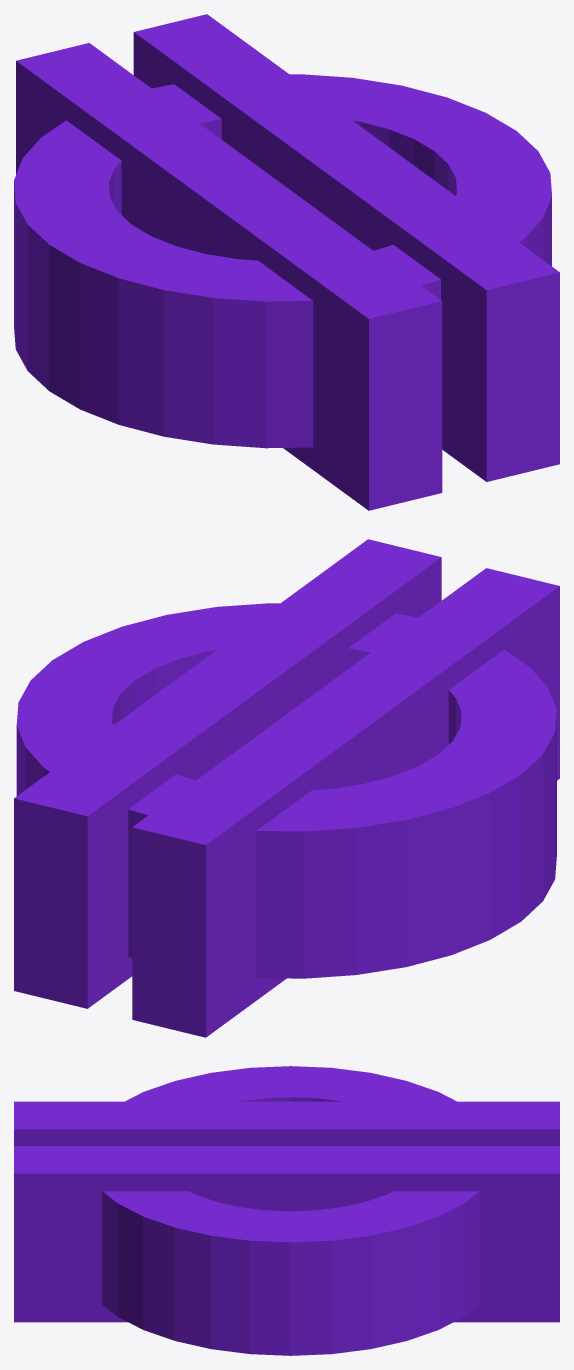
File: heloma_fisurado.gltf
3 renders of one model, top to bottom at view 1: azimuth 30°, elevation 25°; view 2: azimuth 150°, elevation 25°; view 3: azimuth 270°, elevation 25°, orthographic. The views are drawn at different scales.
Parts seen in each view (by area): view 1: Cilindro, Cubo, Cubo.001; view 2: Cilindro, Cubo, Cubo.001; view 3: Cilindro, Cubo.001, Cubo.
Part boxes in pixels (bbox=[...]): Cilindro: bbox=[14, 74, 551, 448]; Cubo: bbox=[16, 43, 442, 510]; Cubo.001: bbox=[133, 14, 559, 481]; Cilindro: bbox=[16, 603, 556, 978]; Cubo: bbox=[132, 568, 559, 1037]; Cubo.001: bbox=[14, 539, 441, 1008]; Cilindro: bbox=[102, 1066, 479, 1355]; Cubo.001: bbox=[14, 1146, 559, 1322]; Cubo: bbox=[14, 1101, 559, 1145].
Bounding box in the file's own units: 1.53 × 0.6 × 2.
